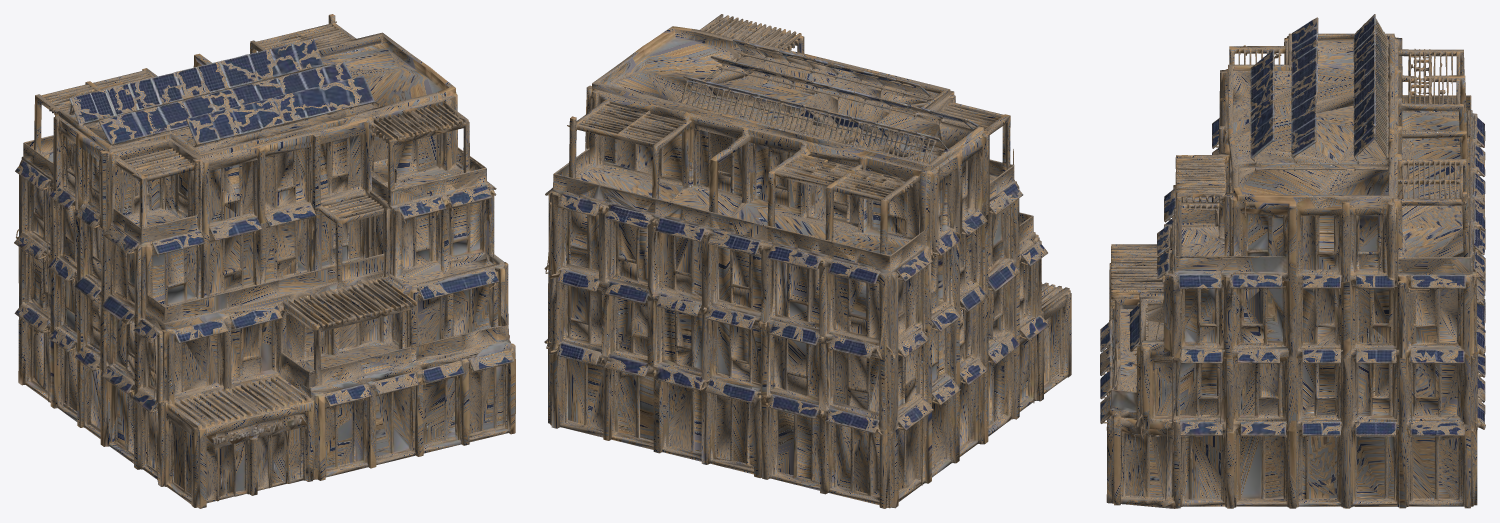
File: extra.glb
The picture shows the model from 3 angles, left to right: view 1: azimuth 30°, elevation 25°; view 2: azimuth 150°, elevation 25°; view 3: azimuth 270°, elevation 25°; orthographic projection. The views are drawn at different scales.
Bounding box in the file's own units: 2 × 1.76 × 1.86.
1 material, 1 textured.
